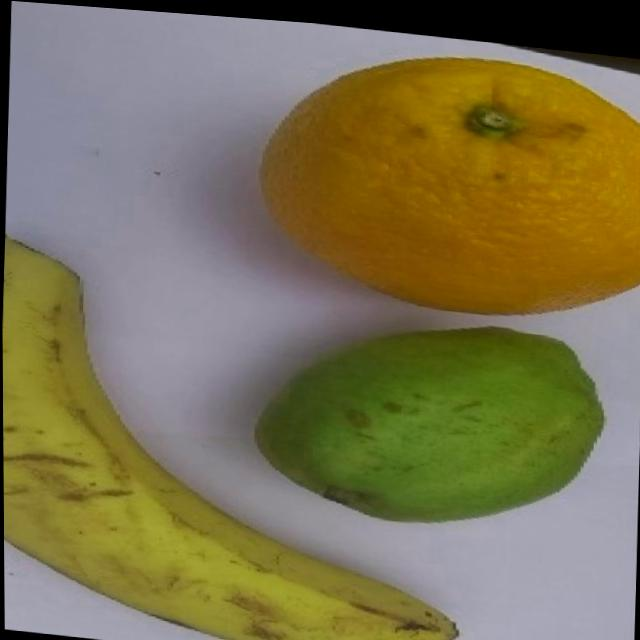Banana: (1, 232, 471, 640)
Orange: (253, 28, 640, 321)
